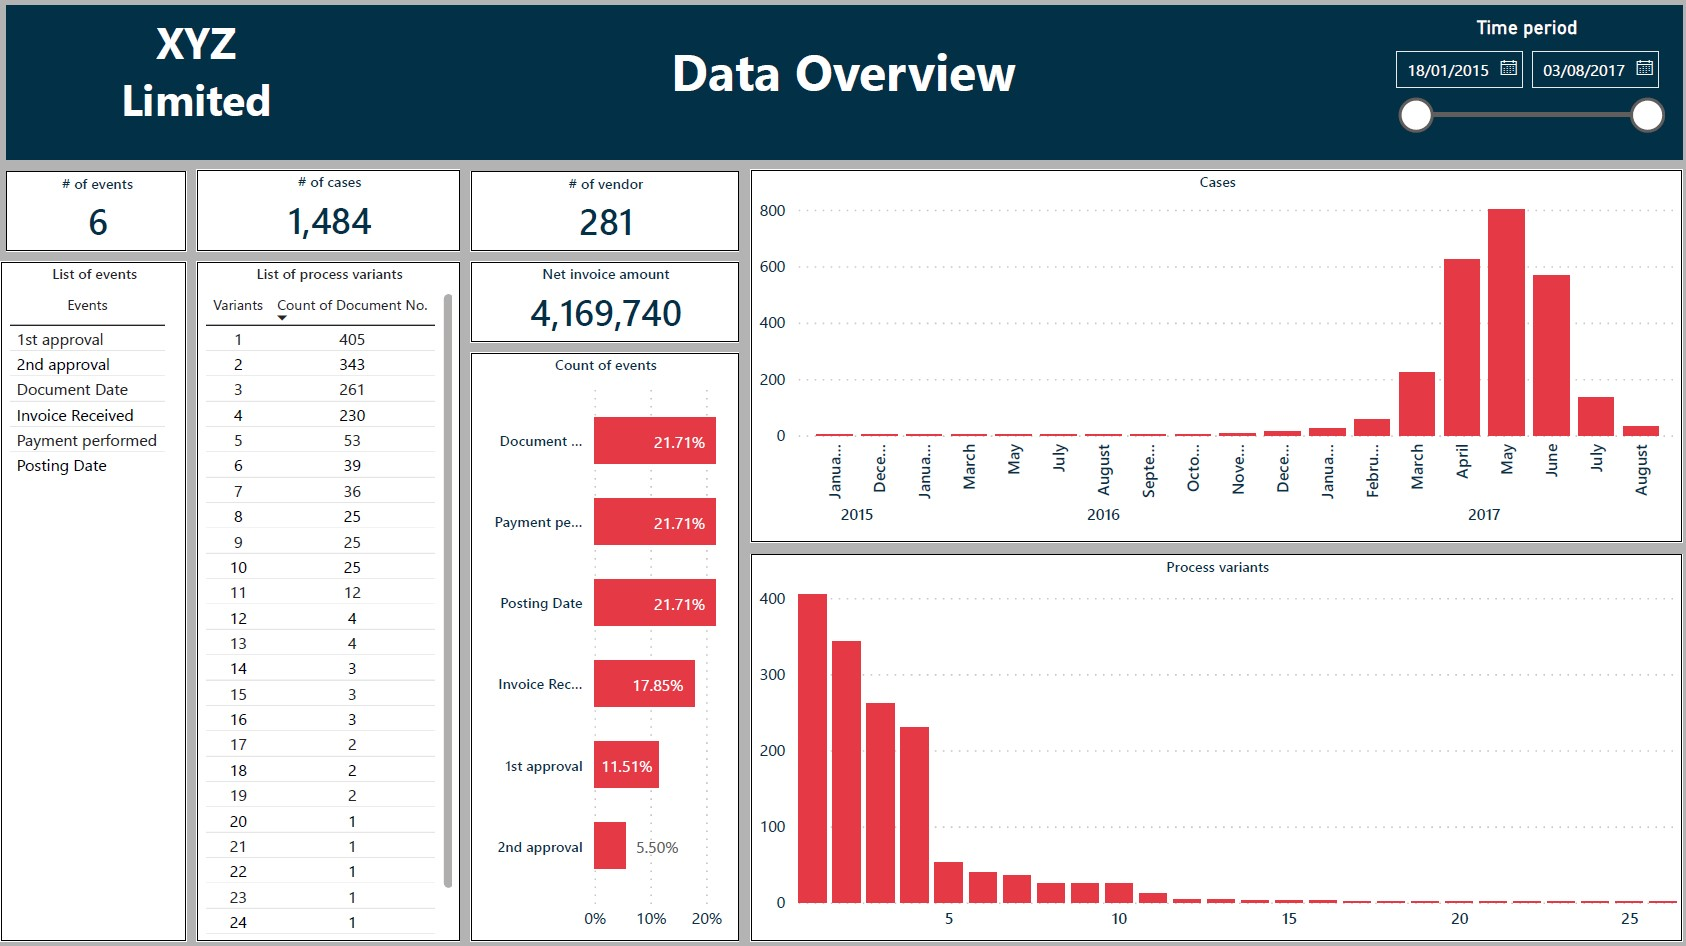

The page's visual inventory and layout, read from the dashboard file:
{"tool":"powerbi","page":{"name":"Data Overview","canvas":[1280,720],"ordinal":0},"visuals":[{"type":"shape","box":[11.7,10.7,1256.7,115.7],"z":0},{"type":"textbox","box":[20.4,10.7,268.2,107.9],"z":1000},{"type":"textbox","box":[495.5,30.2,287.2,67.2],"z":4000},{"type":"card","title":"# of cases","fields":{"Values":["CountNonNull(Distinct_log.Document No.)"]},"box":[154.5,134.1,197.3,61.2],"z":5000},{"type":"card","title":"# of events","fields":{"Values":["Count(P2P_Final.Events)"]},"box":[11.7,135.1,135.1,60.3],"z":6000},{"type":"card","title":"# of vendor","fields":{"Values":["Count(Distinct_log.Account)"]},"box":[359.6,135.1,201.2,60.3],"z":7000},{"type":"card","title":"Net invoice amount","fields":{"Values":["Sum(Distinct_log.Gross AMount Pos)"]},"box":[359.6,203.1,201.2,60.3],"z":8000},{"type":"clusteredColumnChart","title":"Cases","fields":{"Category":["P2P_Final.Date.Variation.Date Hierarchy.Year","P2P_Final.Date.Variation.Date Hierarchy.Month"],"Y":["Count(P2P_Final.Document No.)"]},"box":[569.5,134.1,698.8,278.9],"z":9000},{"type":"columnChart","title":"Process variants","fields":{"Category":["Distinct_log.Variants"],"Y":["CountNonNull(Distinct_log.Document No.)"]},"box":[569.5,421.8,698.8,290.6],"z":10000},{"type":"tableEx","title":"List of process variants","fields":{"Values":["Distinct_log.Variants","Distinct_log.Document No."]},"box":[154.5,203.1,197.3,509.3],"z":11000},{"type":"tableEx","title":"List of events","fields":{"Values":["P2P_Final.Events"]},"box":[7.8,203.1,139,509.3],"z":12000},{"type":"clusteredBarChart","title":"Count of events","fields":{"Category":["P2P_Final.Events"],"Y":["CountNonNull(P2P_Final.Document No.)"]},"box":[359.6,271.2,201.2,441.2],"z":13000},{"type":"slicer","title":"Time period","fields":{"Values":["P2P_Final.Date"]},"box":[1040.4,19,222.4,91.4],"z":14000}]}

Visuals, with their boxes in screenshot pixels (x1, y1, x2, y2), scaled from the page's 1280x720 canvas onto the 1686x946 screenshot:
shape: rect(15, 14, 1671, 166)
textbox: rect(27, 14, 380, 156)
textbox: rect(653, 40, 1031, 128)
"# of cases" card: rect(204, 176, 463, 257)
"# of events" card: rect(15, 178, 193, 257)
"# of vendor" card: rect(474, 178, 739, 257)
"Net invoice amount" card: rect(474, 267, 739, 346)
"Cases" clusteredColumnChart: rect(750, 176, 1671, 543)
"Process variants" columnChart: rect(750, 554, 1671, 936)
"List of process variants" tableEx: rect(204, 267, 463, 936)
"List of events" tableEx: rect(10, 267, 193, 936)
"Count of events" clusteredBarChart: rect(474, 356, 739, 936)
"Time period" slicer: rect(1370, 25, 1663, 145)
